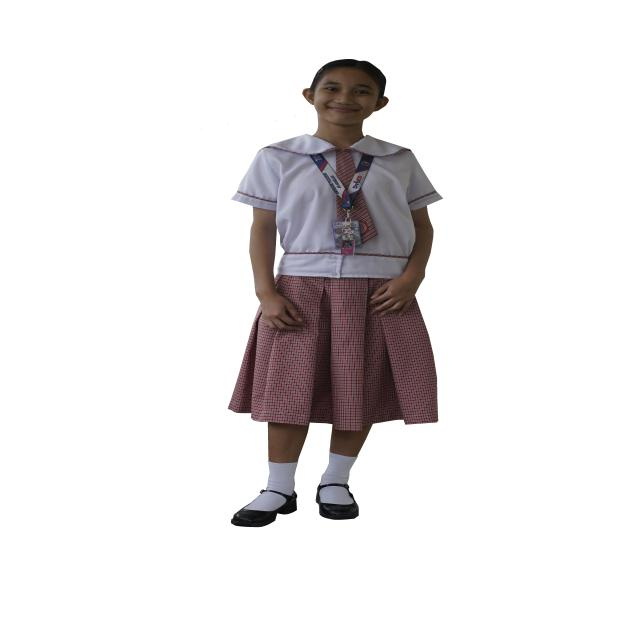id lace: (310, 153, 373, 211)
pologirl: (233, 135, 442, 278), (351, 193, 377, 239), (332, 149, 356, 187), (338, 210, 344, 218)
shoes: (231, 491, 297, 527), (316, 484, 359, 520)
skirt: (229, 275, 437, 431)
